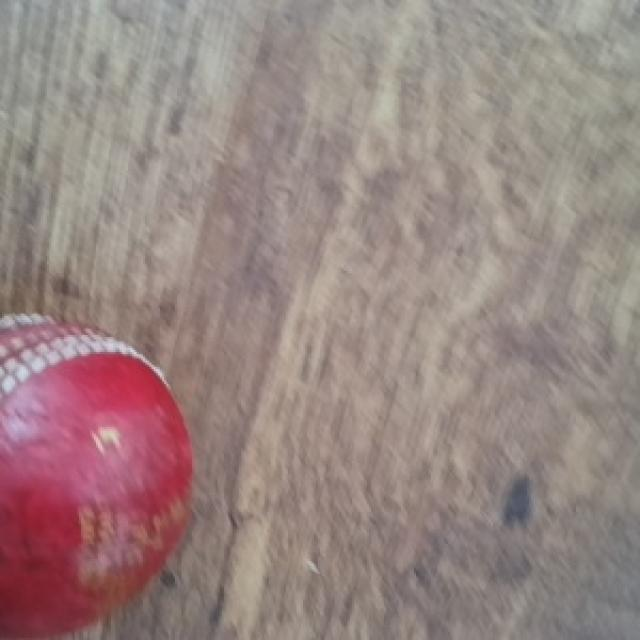ball: (0, 316, 196, 640)
